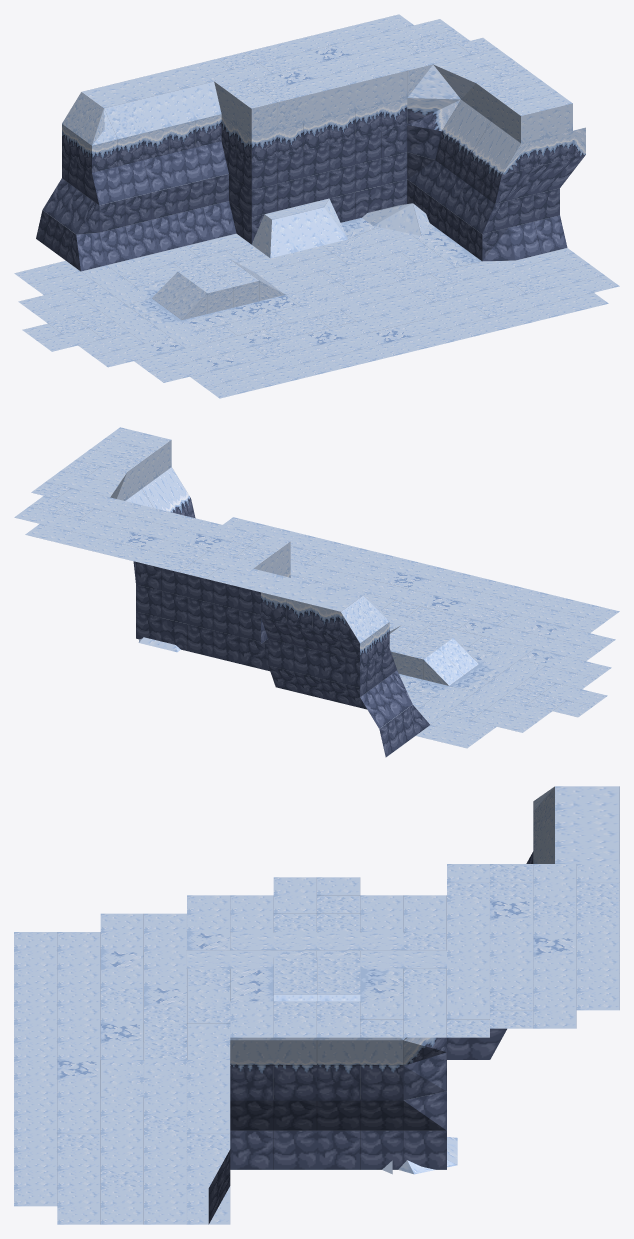
File: snowytest.obj
3 views of the same model, one above another, from view 1: azimuth 30°, elevation 25°; view 2: azimuth 150°, elevation 25°; view 3: azimuth 270°, elevation 25° (orthographic). The views are drawn at different scales.
Parts seen in each view (by area): view 1: Default; view 2: Default; view 3: Default.
Boxes of the visible parts, x1,y1,x2,y2 form: Default: [14, 14, 619, 398]; Default: [14, 427, 619, 757]; Default: [14, 786, 619, 1224].
Size of the model in its own units: 40 by 10 by 28.
Materials: 1 (1 with a texture image).
